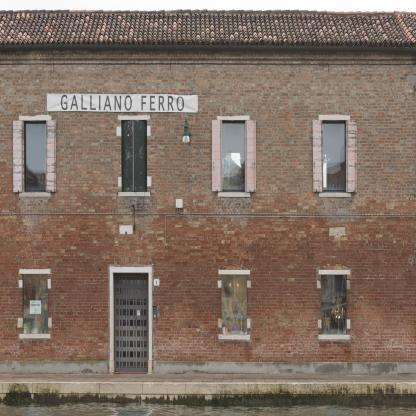Cornice: (20, 115, 52, 120), (118, 115, 150, 120), (217, 115, 249, 120), (319, 115, 351, 120), (319, 270, 351, 275), (218, 270, 250, 275), (19, 269, 51, 274)
Door: (113, 272, 148, 373)
Facade: (1, 9, 416, 374)
Floor Slab: (1, 230, 416, 246)
Ground Floor: (1, 246, 416, 373)
Roof: (0, 10, 416, 46)
Shop: (47, 94, 199, 112)
Sill: (219, 335, 251, 340), (19, 334, 51, 339), (19, 192, 51, 197), (118, 192, 150, 197), (218, 193, 250, 198), (319, 193, 351, 198), (319, 335, 351, 340)
Top Floor: (1, 46, 416, 230)
Window: (121, 120, 147, 192), (22, 120, 47, 192), (322, 121, 347, 192), (221, 121, 246, 192), (321, 275, 346, 334), (222, 275, 247, 334), (23, 275, 47, 334)
